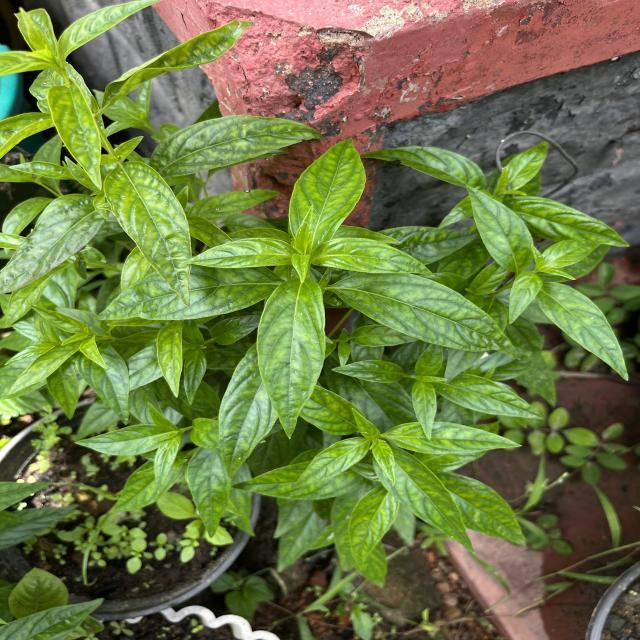Andrographis paniculata: (330, 270, 522, 362), (102, 160, 192, 308), (255, 276, 328, 441), (149, 114, 326, 178), (533, 281, 630, 382), (384, 451, 477, 556), (214, 339, 280, 481), (288, 136, 368, 248), (512, 194, 632, 251), (46, 81, 104, 192), (464, 184, 534, 274), (362, 143, 484, 188), (313, 237, 436, 278), (388, 422, 526, 456), (443, 376, 545, 422), (347, 482, 399, 572), (186, 448, 233, 540), (8, 338, 82, 396), (291, 436, 371, 488), (180, 238, 295, 270), (86, 348, 132, 424), (70, 422, 166, 457), (156, 323, 186, 398), (330, 359, 406, 384), (507, 271, 542, 325), (410, 381, 438, 442)
